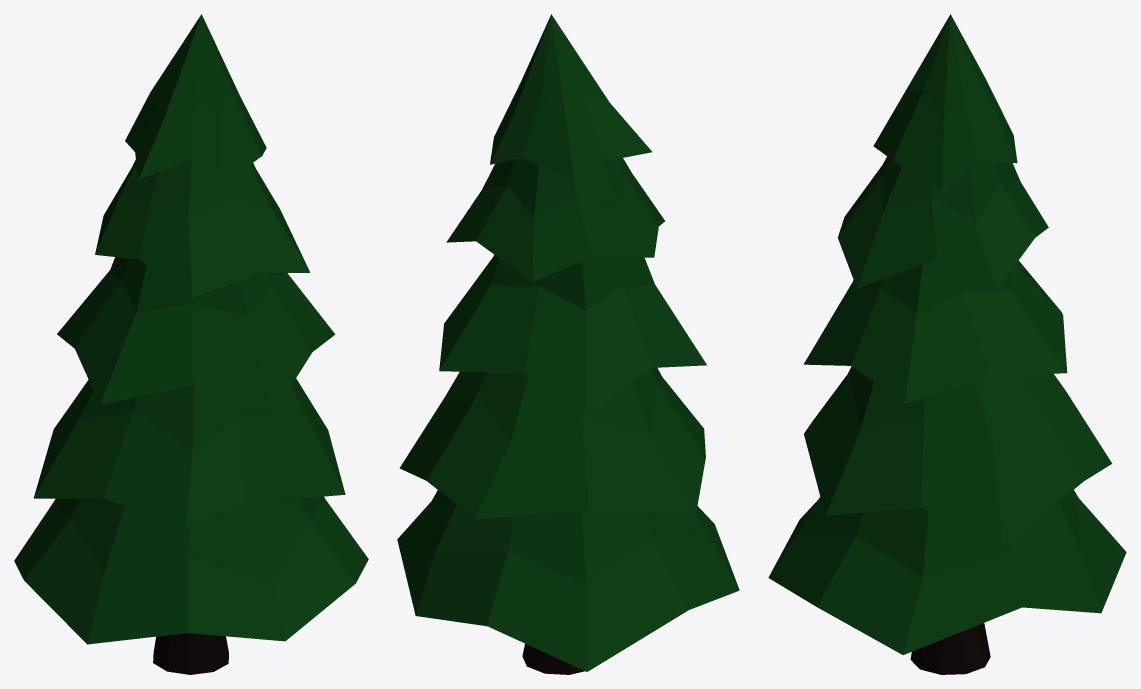
File: lp_conifer2_Cylinder_001.obj
3 renders of one model, left to right at view 1: azimuth 30°, elevation 25°; view 2: azimuth 150°, elevation 25°; view 3: azimuth 270°, elevation 25°, orthographic.
Parts seen in each view (by area): view 1: lp_conifer2_Cylinder_001; view 2: lp_conifer2_Cylinder_001; view 3: lp_conifer2_Cylinder_001.
Part boxes in pixels (x1,y1,x2,y2): lp_conifer2_Cylinder_001: (14,14,368,674); lp_conifer2_Cylinder_001: (397,14,739,674); lp_conifer2_Cylinder_001: (768,14,1126,674).
Bounding box in the file's own units: 7.65 × 15.55 × 7.77.
